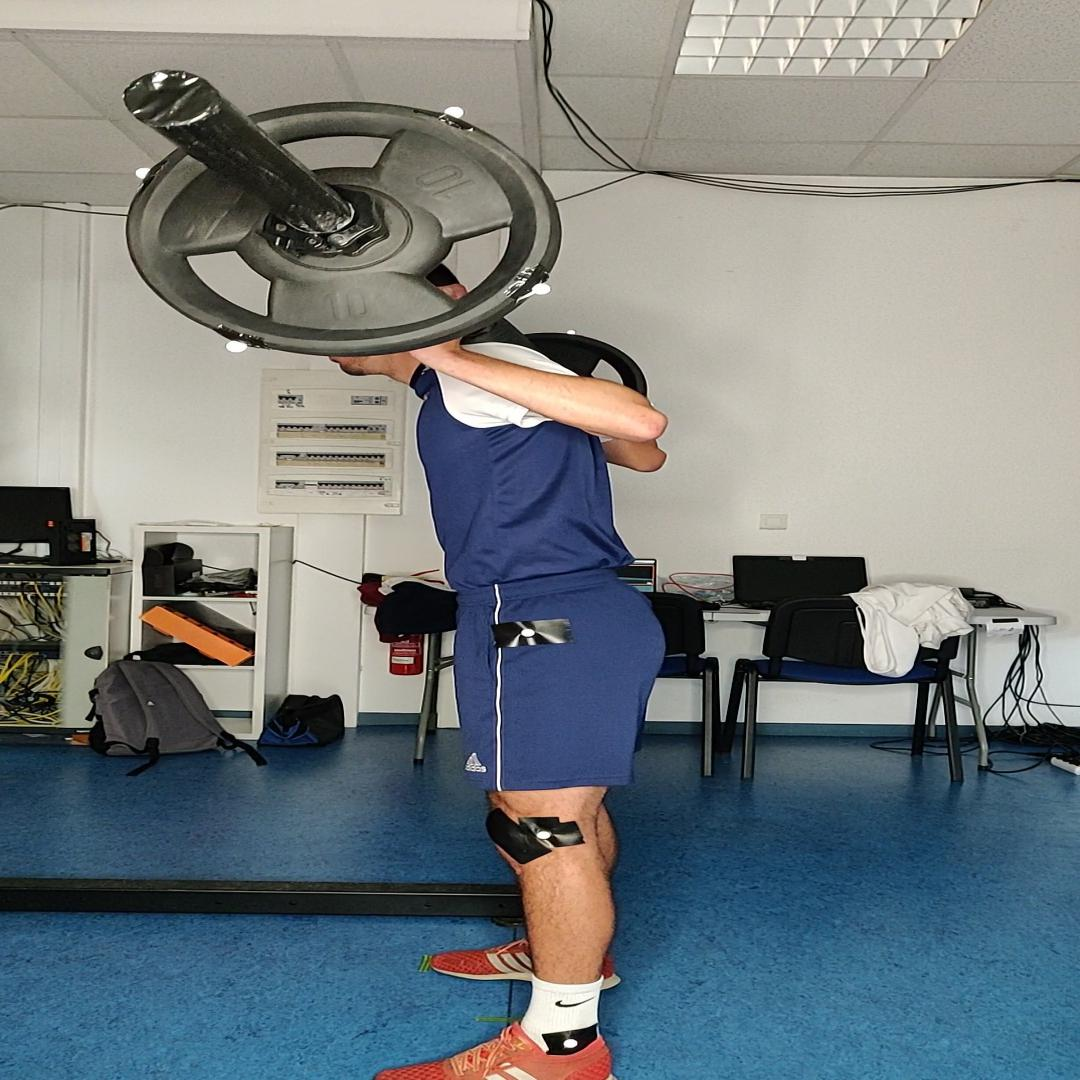Bar: (124, 70, 222, 127)
Barbell: (126, 102, 562, 356)
